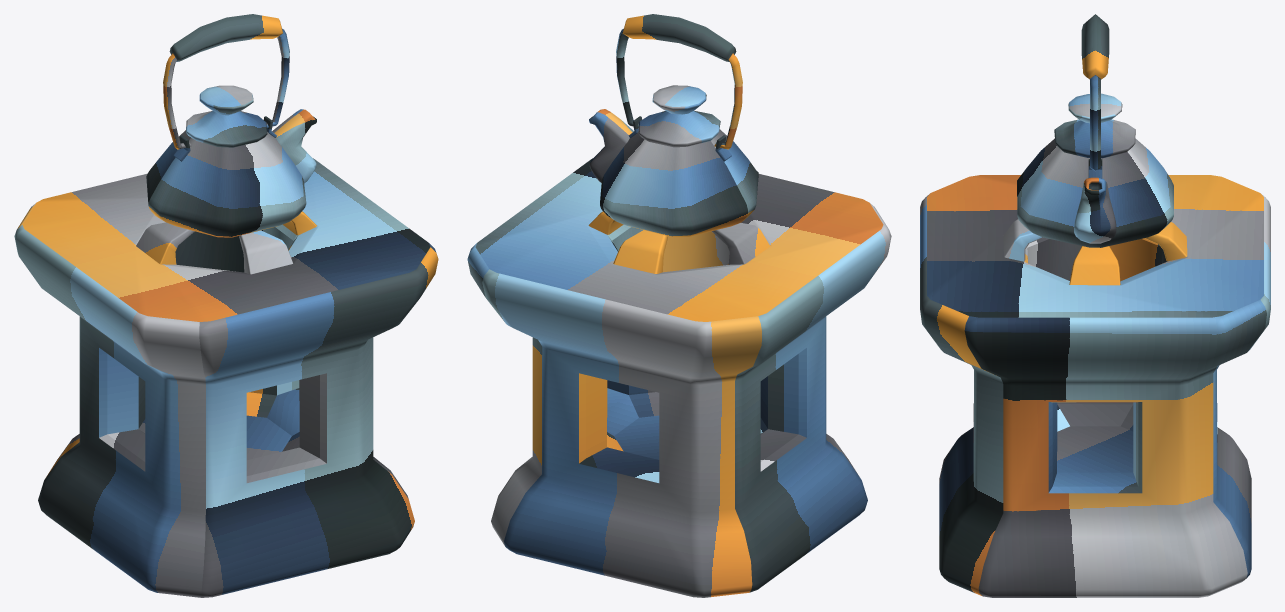
The model's file is CharSkyKid_Prop_AP17Kettle.glb.
3 renders of one model, left to right at view 1: azimuth 30°, elevation 25°; view 2: azimuth 150°, elevation 25°; view 3: azimuth 270°, elevation 25°, orthographic.
Visible parts, largest first — view 1: CharSkyKid_Prop_AP17Kettle; view 2: CharSkyKid_Prop_AP17Kettle; view 3: CharSkyKid_Prop_AP17Kettle.
Part boxes in pixels (x1=…): CharSkyKid_Prop_AP17Kettle: x1=14, y1=14, x2=438, y2=597; CharSkyKid_Prop_AP17Kettle: x1=467, y1=14, x2=891, y2=597; CharSkyKid_Prop_AP17Kettle: x1=920, y1=14, x2=1270, y2=597.
Bounding box in the file's own units: 7.81 × 12.49 × 7.81.
1 material, 1 textured.
